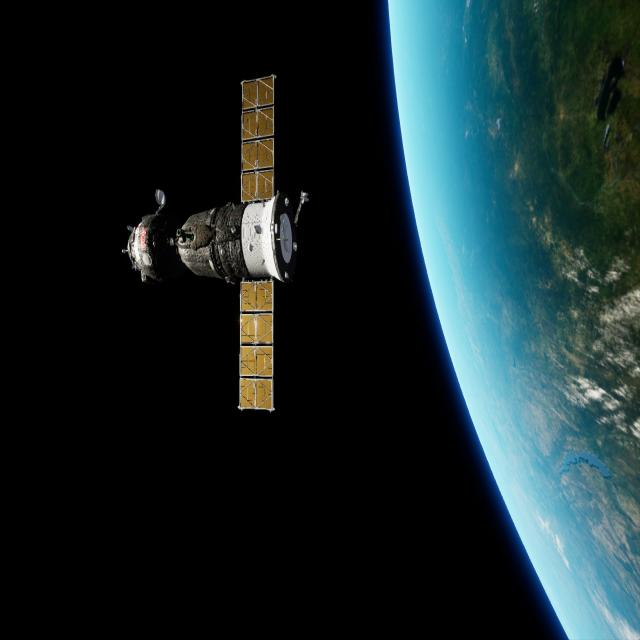Satellites revolving around earth: (121, 70, 311, 415)
